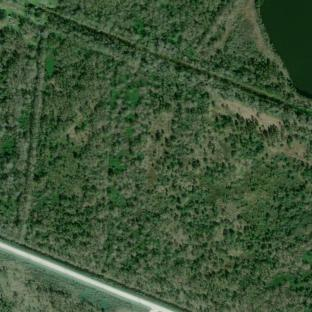Floresta: (0, 0, 312, 312), (0, 251, 150, 312)
